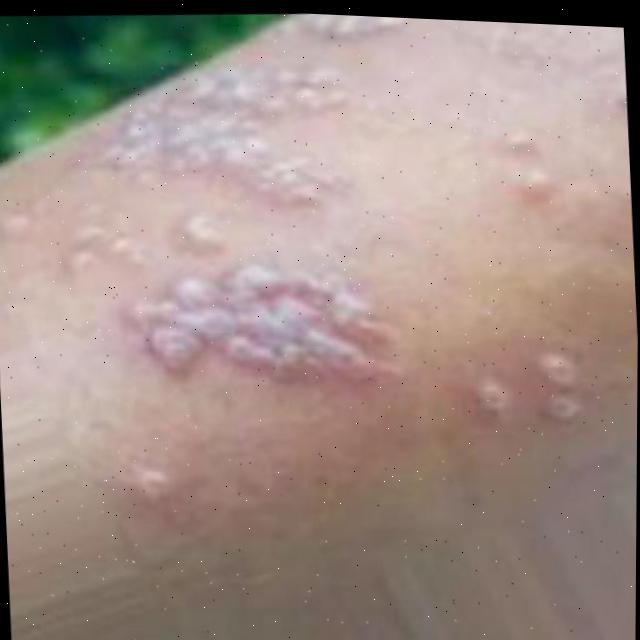Shingles: (82, 4, 414, 420)
